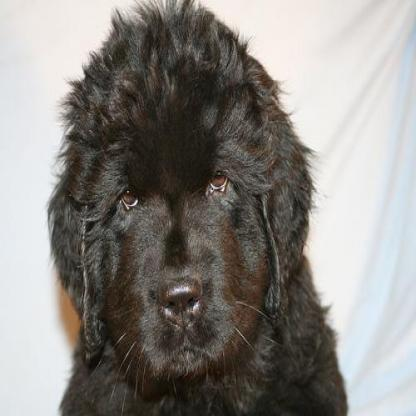Newfoundland: (46, 0, 348, 414)
